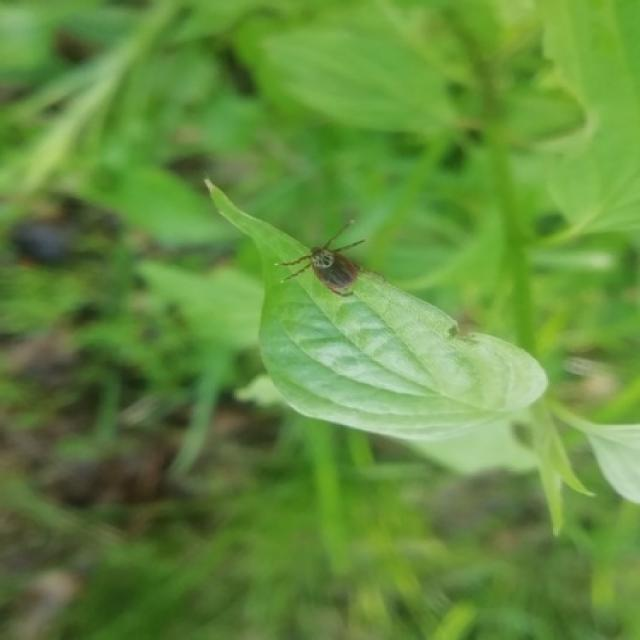Dermacentor Reticulatus-F: (275, 218, 369, 296)
